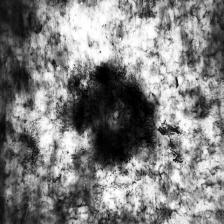Benign Marking or Mole: (67, 65, 155, 164)
